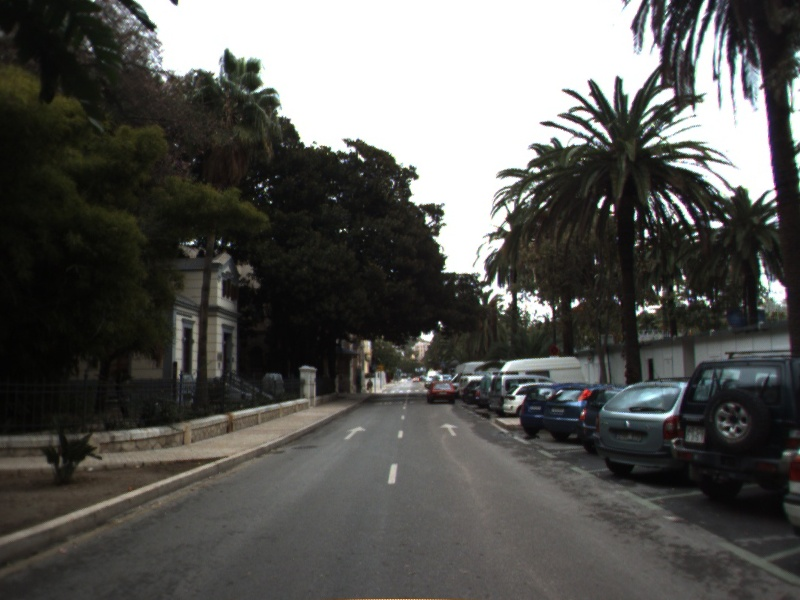STRAIGHT: (342, 424, 369, 442), (437, 421, 461, 438)
